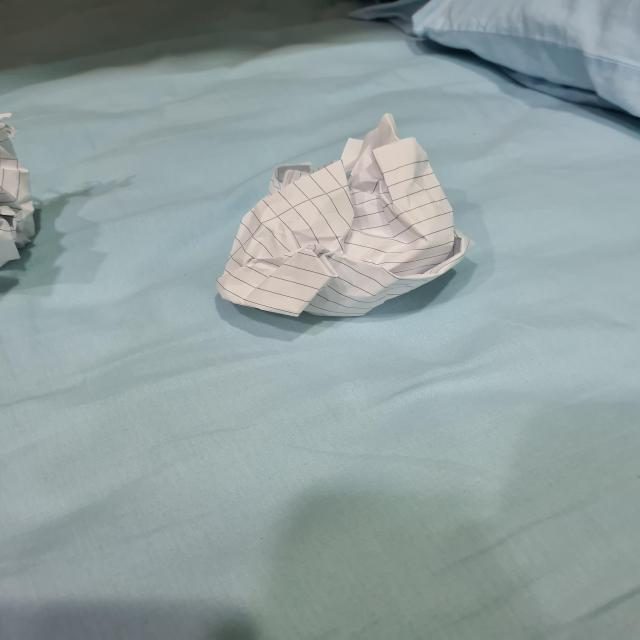trash: (217, 115, 467, 322)
